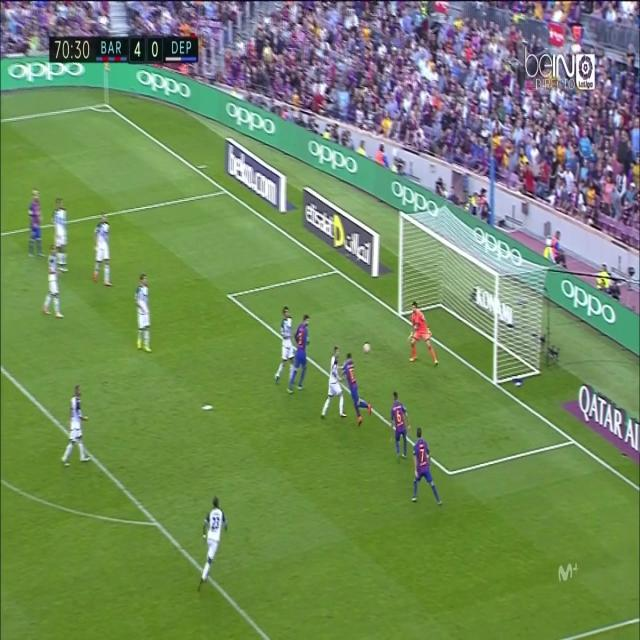Ball: (362, 338, 374, 358)
Goalkeeper: (404, 300, 438, 368)
Player: (195, 496, 227, 591), (411, 424, 444, 511), (59, 383, 91, 471), (341, 350, 374, 431), (286, 311, 314, 400), (320, 341, 348, 425), (40, 242, 64, 322), (273, 304, 296, 387), (133, 272, 154, 357), (50, 194, 70, 276), (389, 390, 411, 464), (27, 185, 47, 265), (92, 212, 112, 291)
